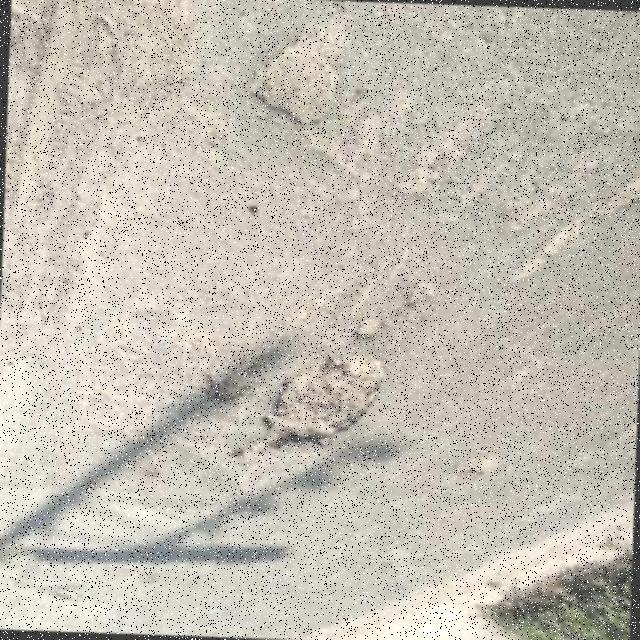Pothole: (235, 350, 387, 454), (250, 24, 343, 124), (202, 349, 279, 401), (452, 449, 506, 474), (407, 281, 438, 306), (355, 317, 385, 338)
